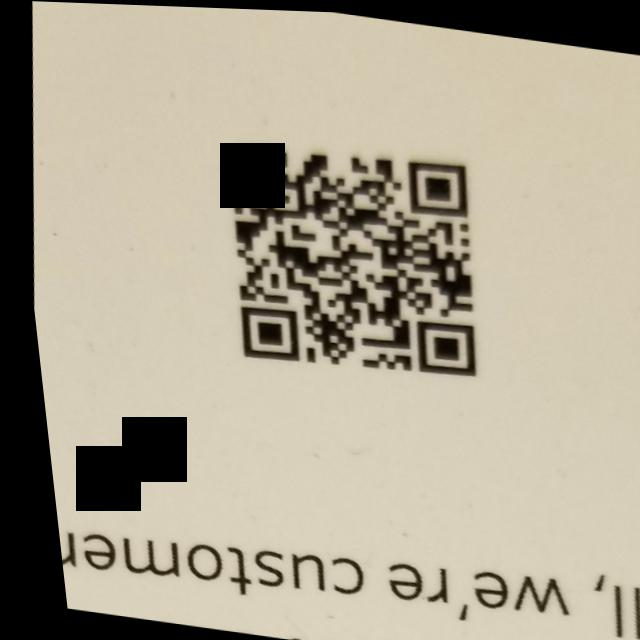QR_CODE: (172, 114, 524, 415)
